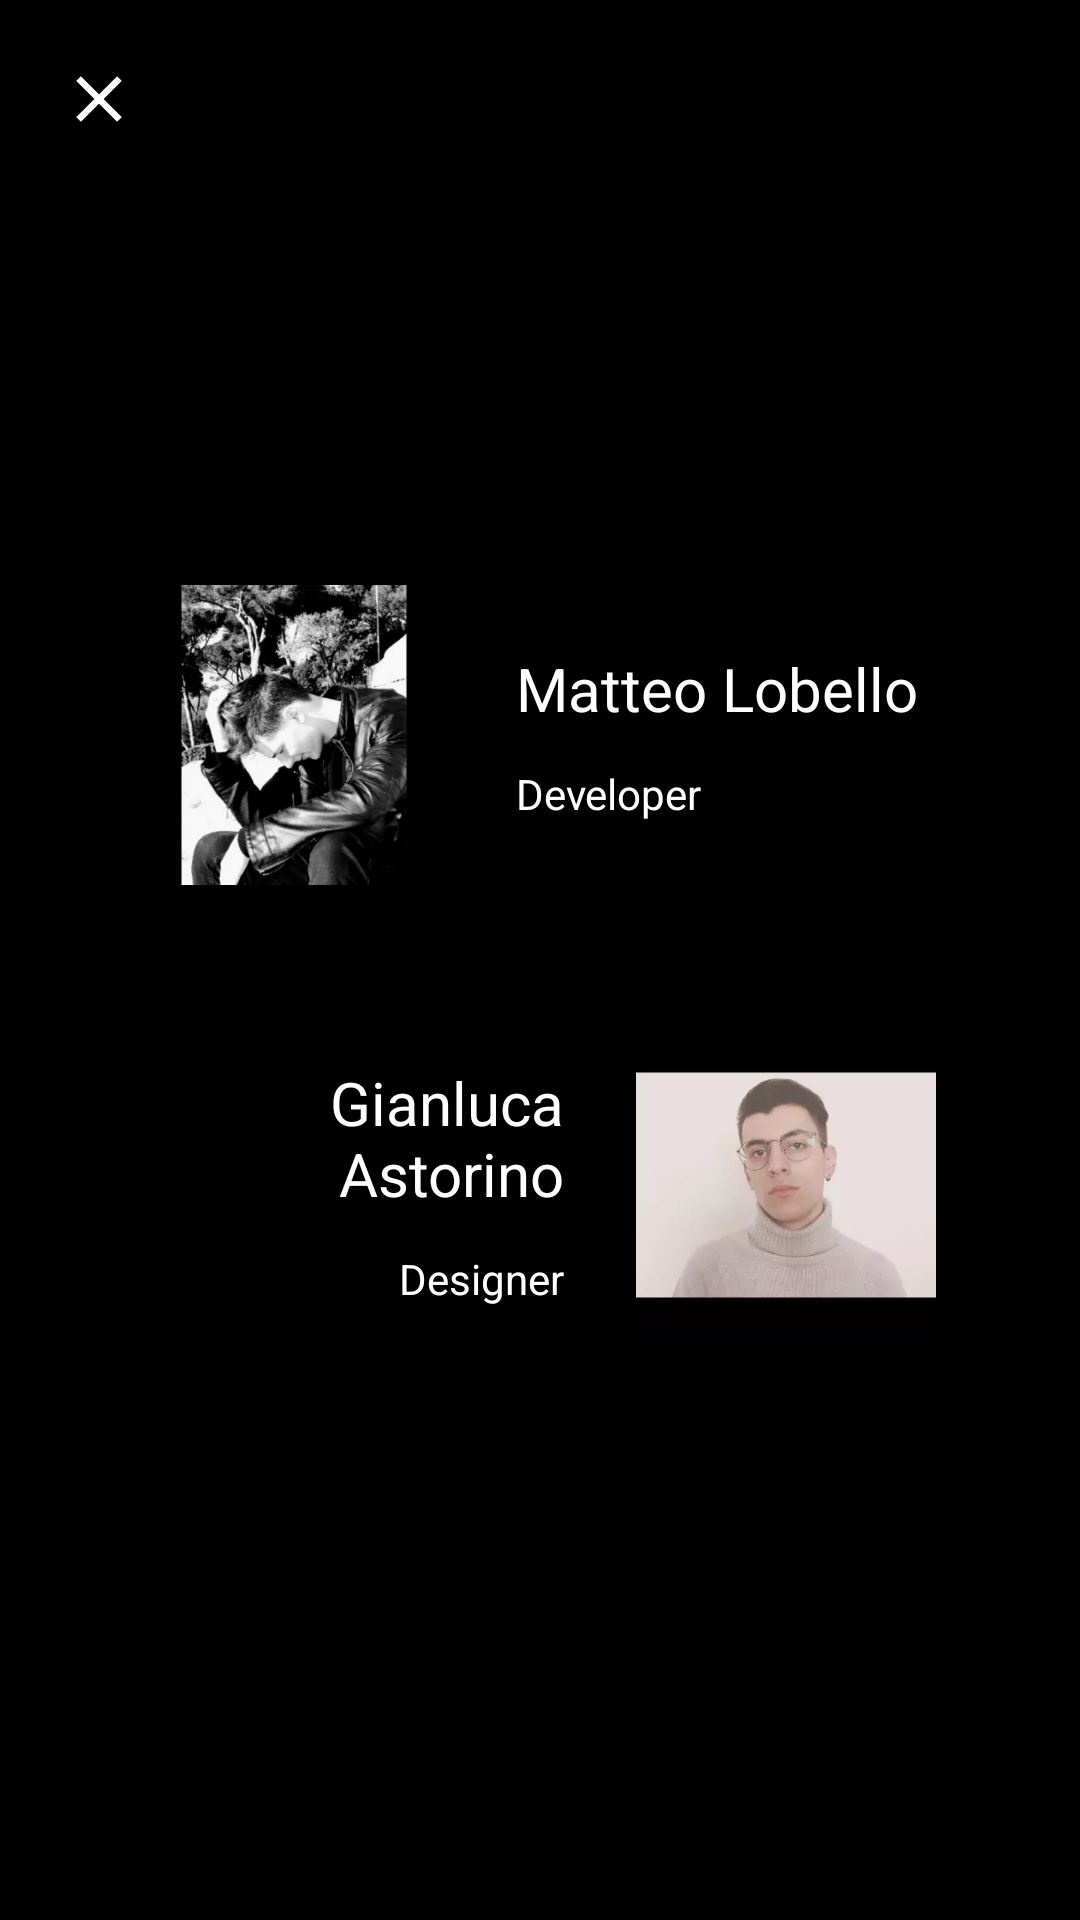

Point at icon controls on the screen. Image size 1080*1920, points as [x,y].
close: [99,99]
